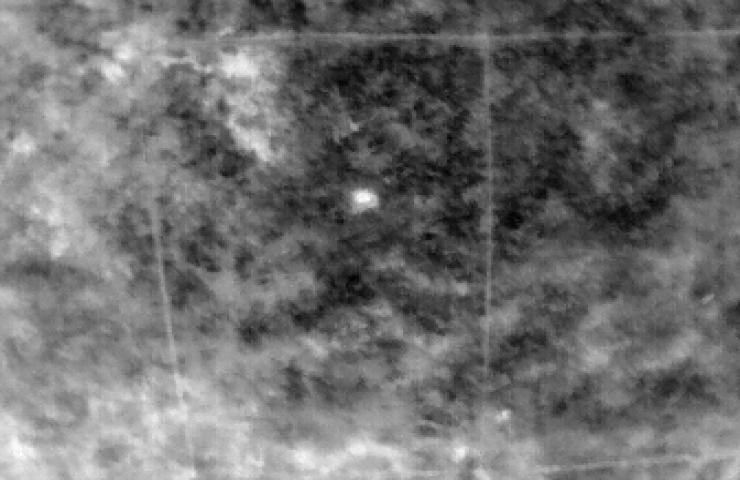landmines: (352, 187, 378, 212)
